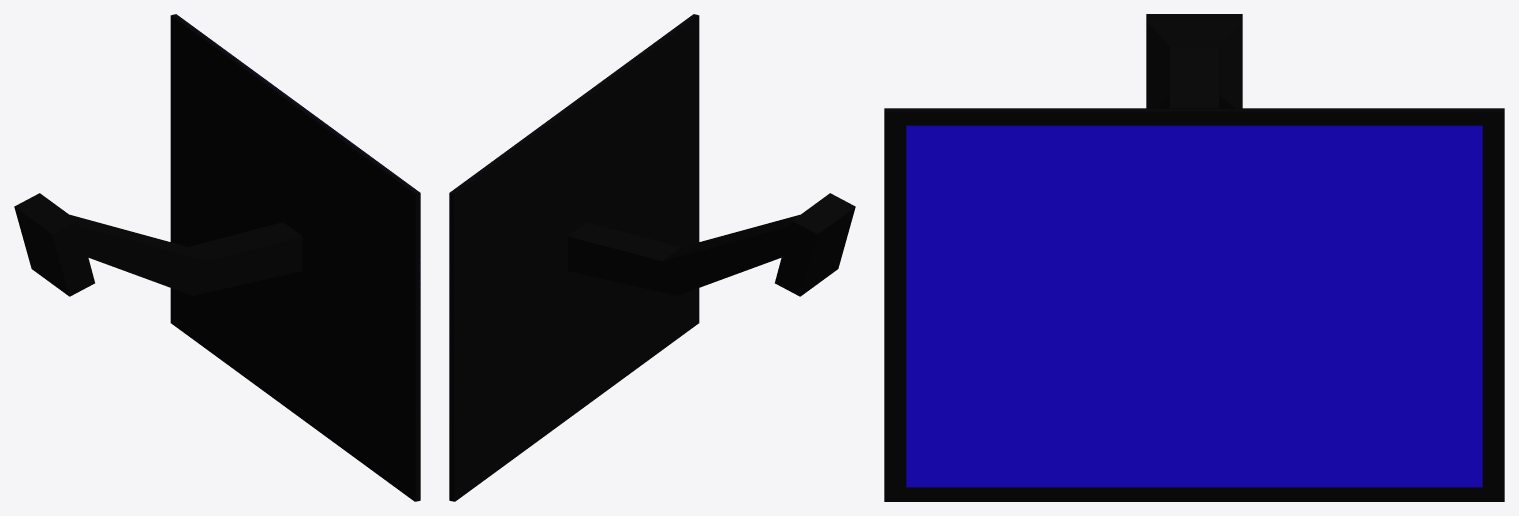
File: Pantalla.fbx
The picture shows the model from 3 angles, left to right: view 1: azimuth 30°, elevation 25°; view 2: azimuth 150°, elevation 25°; view 3: azimuth 270°, elevation 25°; orthographic projection. The views are drawn at different scales.
Visible parts, largest first — view 1: Cube, Cubo, Cube.001; view 2: Cube, Cubo, Cube.001; view 3: Cube.002, Cube.001, Cubo.
Part boxes in pixels (bbox=[...]): Cube: bbox=[170, 15, 415, 501]; Cubo: bbox=[14, 193, 302, 296]; Cube.001: bbox=[171, 14, 420, 501]; Cube: bbox=[454, 15, 699, 501]; Cubo: bbox=[567, 193, 855, 296]; Cube.001: bbox=[449, 14, 698, 501]; Cube.002: bbox=[906, 125, 1482, 487]; Cube.001: bbox=[884, 109, 1504, 501]; Cubo: bbox=[1146, 14, 1242, 108].
Bounding box in the file's own units: 247 × 274 × 395.
